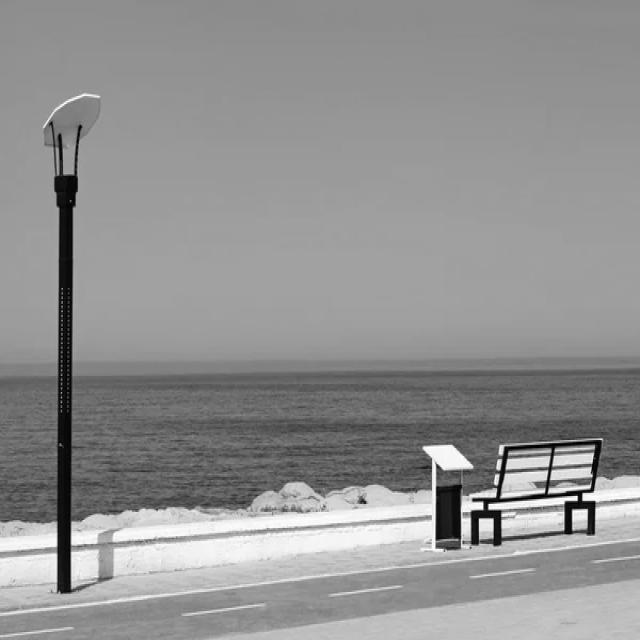Pole: (43, 93, 100, 593)
